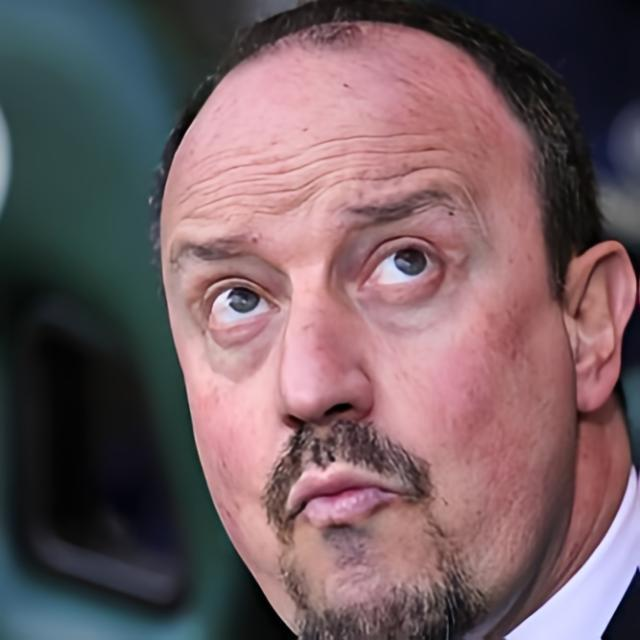surprise: (159, 22, 575, 640)
